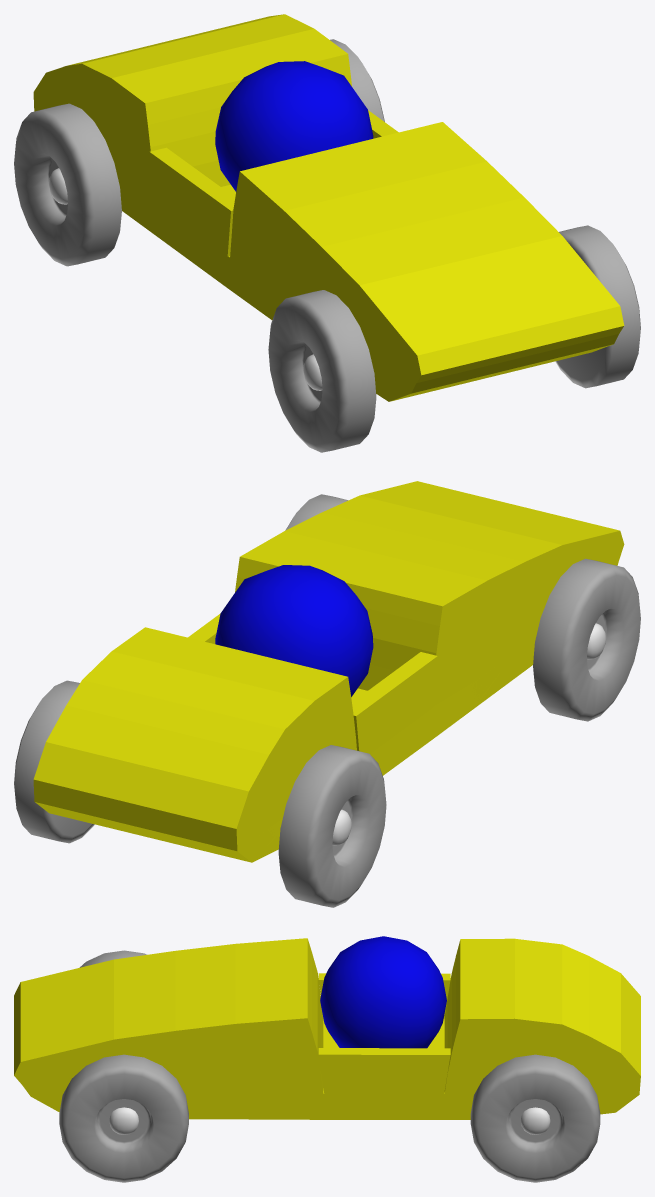
File: SK_DerbyCar.fbx
The picture shows the model from 3 angles, top to bottom: view 1: azimuth 30°, elevation 25°; view 2: azimuth 150°, elevation 25°; view 3: azimuth 270°, elevation 25°; orthographic projection. The views are drawn at different scales.
Visible parts, largest first — view 1: carBody1, wheelA, wheelB, Ball, wheelC, doorA, wheelD; view 2: carBody1, wheelB, wheelA, Ball, doorA, wheelD, wheelC; view 3: carBody1, wheelD, wheelC, Ball, doorB, pegD, pegC, wheelA.
Boxes of the visible parts, bbox=[...] form: carBody1: bbox=[33, 14, 624, 401]; wheelA: bbox=[268, 290, 376, 452]; wheelB: bbox=[14, 103, 121, 266]; Ball: bbox=[215, 61, 373, 191]; wheelC: bbox=[555, 225, 640, 388]; doorA: bbox=[149, 147, 235, 256]; wheelD: bbox=[330, 39, 384, 121]; carBody1: bbox=[33, 481, 624, 862]; wheelB: bbox=[278, 745, 386, 907]; wheelA: bbox=[533, 558, 640, 721]; Ball: bbox=[215, 565, 373, 696]; doorA: bbox=[352, 652, 437, 753]; wheelD: bbox=[14, 680, 94, 843]; wheelC: bbox=[285, 494, 348, 530]; carBody1: bbox=[14, 938, 640, 1119]; wheelD: bbox=[470, 1054, 600, 1182]; wheelC: bbox=[59, 1054, 188, 1182]; Ball: bbox=[320, 936, 446, 1048]; doorB: bbox=[318, 1048, 450, 1093]; pegD: bbox=[520, 1107, 550, 1134]; pegC: bbox=[109, 1107, 138, 1134]; wheelA: bbox=[79, 950, 146, 967].
Bounding box in the file's own units: 8.29 × 5.93 × 18.47.
